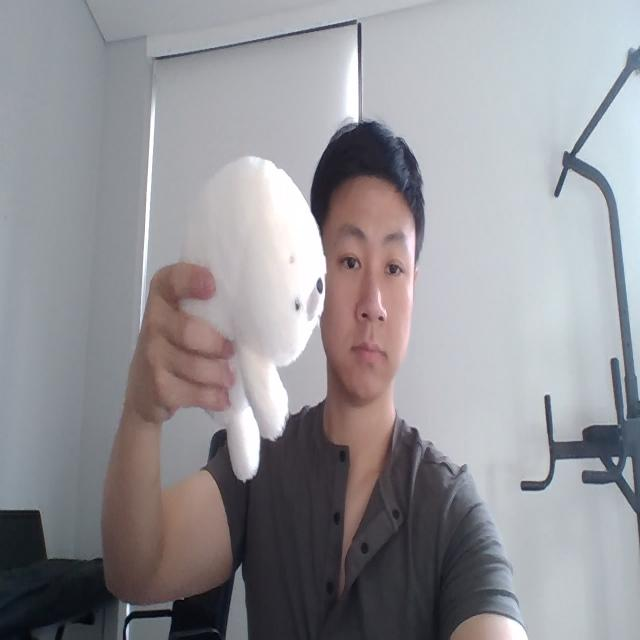seal_bb: (177, 156, 326, 484)
